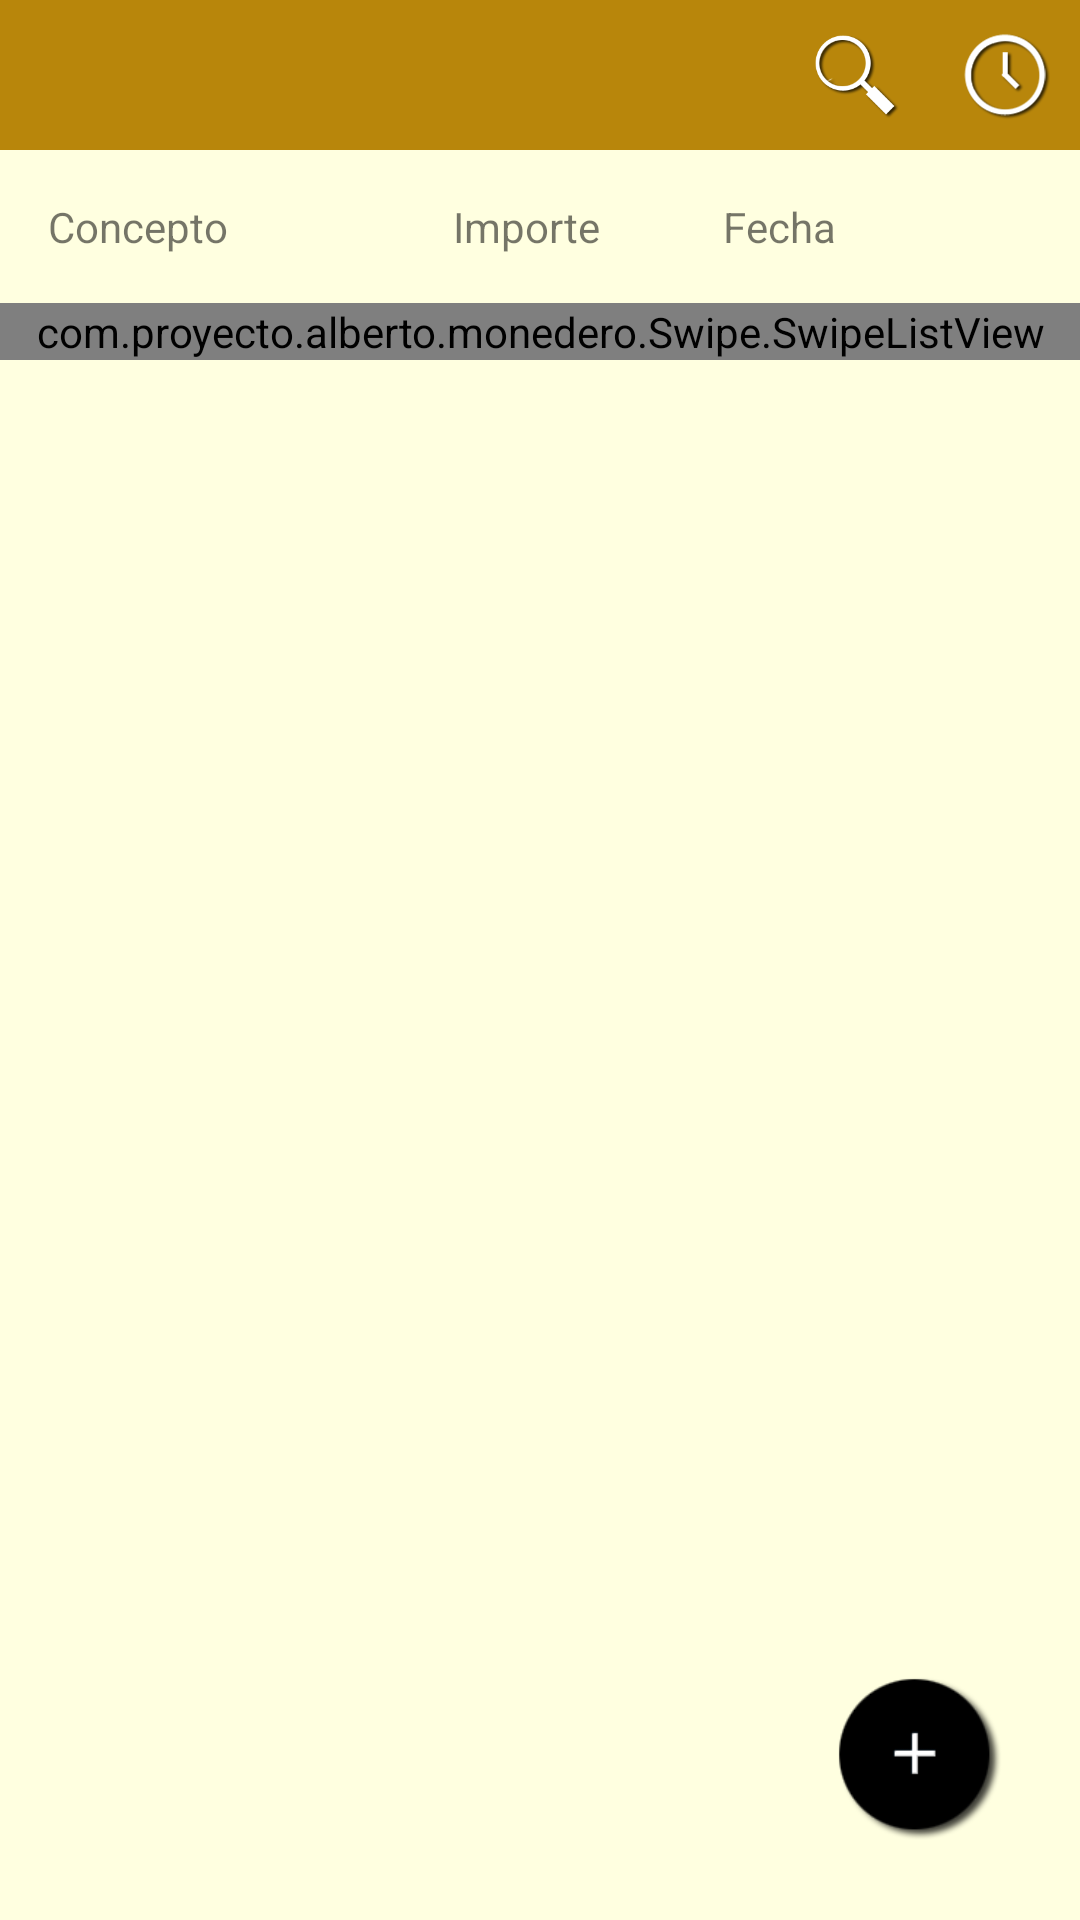

Icon bounding boxes for this 1080x1920 phone screenshot, format (x1, y1, x2, y2):
anyadir: (839, 1679, 999, 1837)
lupa: (815, 35, 897, 117)
reloj: (964, 34, 1049, 118)
